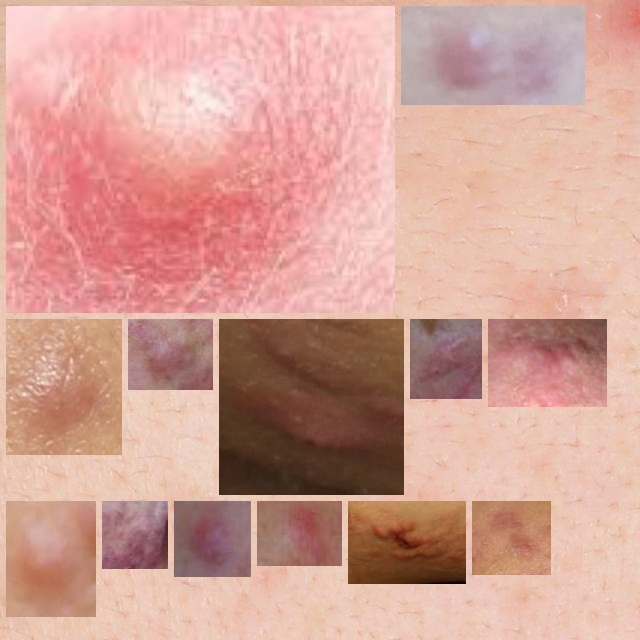nodule: (14, 14, 387, 305), (227, 327, 396, 487), (409, 14, 577, 97), (14, 327, 114, 447), (496, 327, 599, 399), (14, 509, 88, 609), (356, 509, 458, 576), (136, 327, 205, 382), (182, 509, 243, 569), (480, 509, 543, 567), (418, 327, 474, 391), (265, 509, 334, 558), (110, 509, 160, 561)
